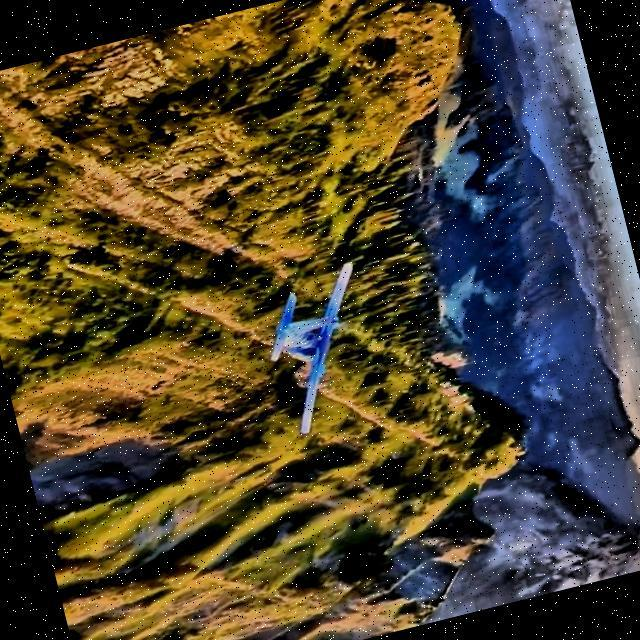iha: (244, 248, 406, 444)
